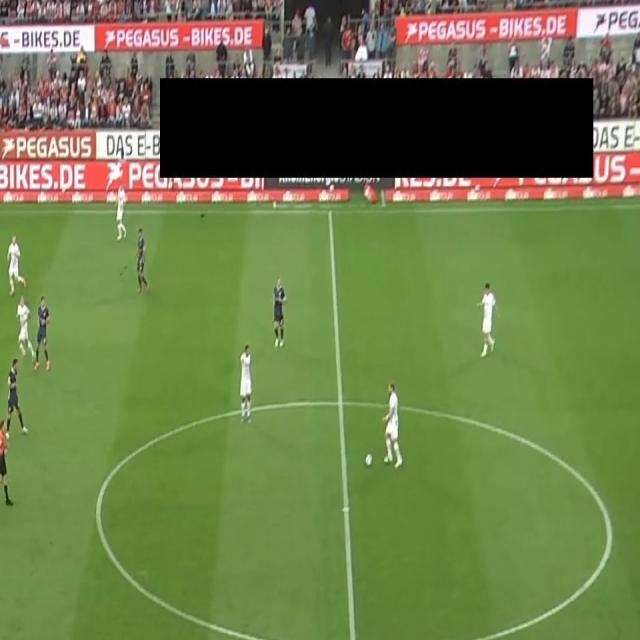ball: (364, 452, 374, 469)
